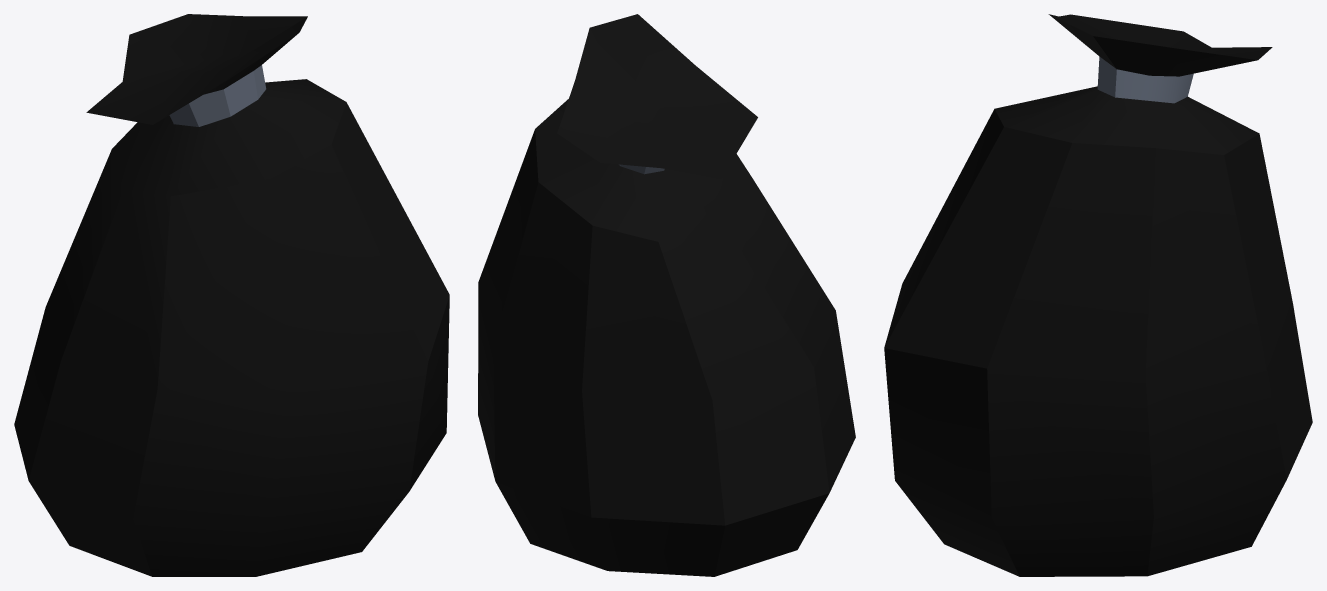
File: Trash 2.fbx
The picture shows the model from 3 angles, left to right: view 1: azimuth 30°, elevation 25°; view 2: azimuth 150°, elevation 25°; view 3: azimuth 270°, elevation 25°; orthographic projection. The views are drawn at different scales.
Visible parts, largest first — view 1: Trash_02; view 2: Trash_02; view 3: Trash_02.
Boxes of the visible parts, x1,y1,x2,y2 form: Trash_02: (14, 14, 449, 576); Trash_02: (478, 14, 855, 576); Trash_02: (884, 14, 1312, 576).
Bounding box in the file's own units: 41.56 × 54.25 × 40.24.
